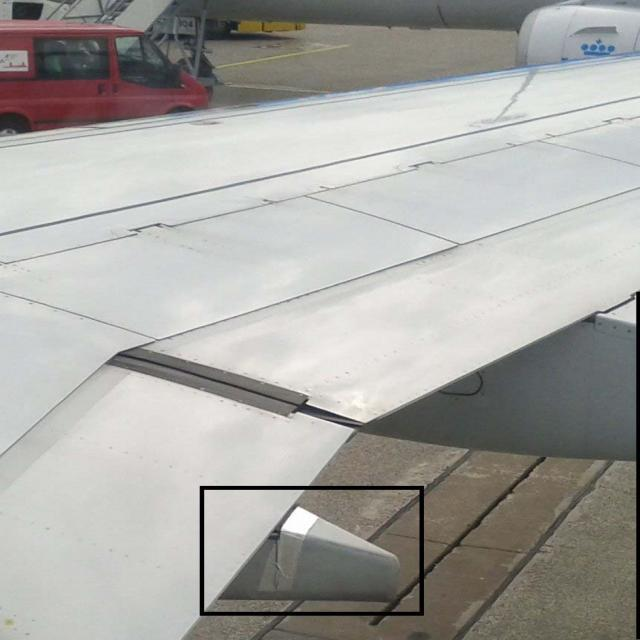crack: (274, 544, 293, 584)
